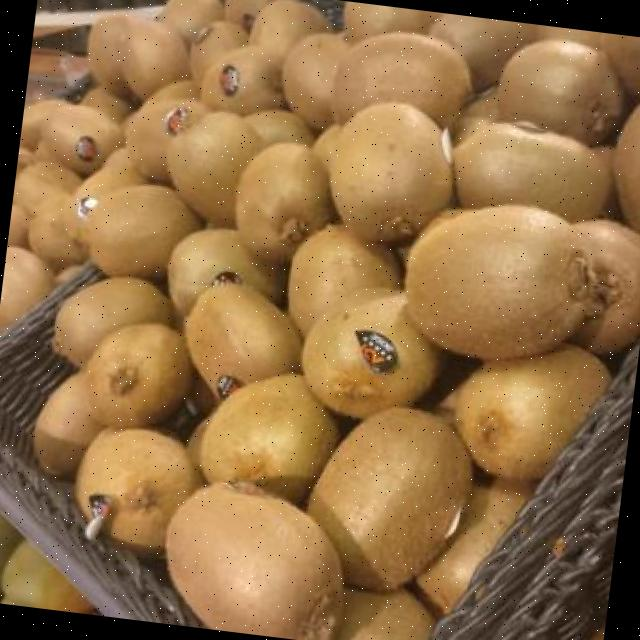kiwi: (308, 407, 472, 589), (405, 204, 584, 358), (167, 483, 341, 640), (457, 344, 608, 481), (198, 373, 339, 501), (301, 289, 438, 417), (330, 104, 452, 240), (454, 122, 611, 220), (74, 428, 202, 548), (417, 479, 532, 612), (330, 31, 470, 127), (185, 284, 301, 397), (499, 39, 624, 143), (287, 224, 400, 335), (166, 110, 264, 226), (235, 144, 333, 259), (83, 323, 192, 425), (52, 276, 171, 365), (86, 187, 199, 275), (167, 230, 280, 315), (573, 219, 640, 353), (89, 13, 189, 98), (429, 13, 535, 90), (68, 147, 146, 244), (33, 370, 101, 474), (125, 99, 210, 181), (284, 34, 350, 130), (36, 105, 123, 175), (200, 45, 283, 114), (335, 587, 434, 640), (122, 22, 190, 97), (248, 0, 329, 56), (0, 246, 53, 329), (29, 195, 87, 269), (344, 1, 441, 41), (189, 20, 247, 84), (12, 162, 82, 214), (613, 108, 640, 232), (158, 0, 222, 46), (600, 32, 640, 96), (243, 111, 314, 145), (19, 100, 66, 149), (80, 87, 132, 122), (535, 25, 602, 49), (225, 0, 276, 29), (313, 124, 341, 172), (7, 205, 29, 246)
